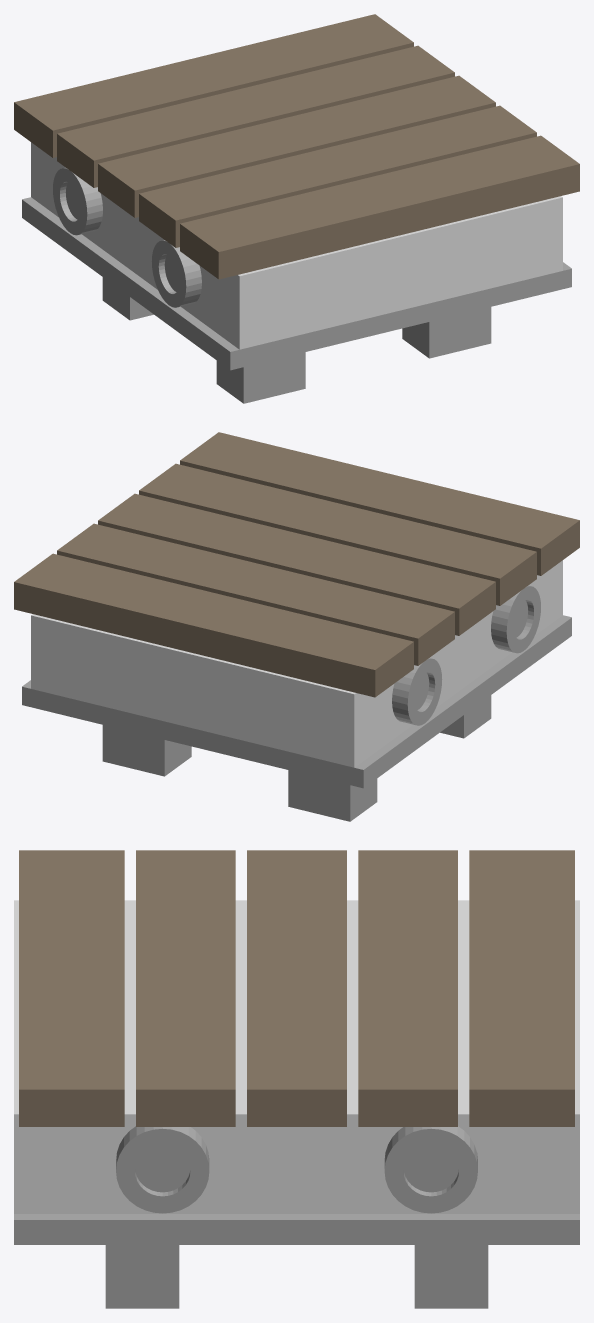
File: Conveyor.fbx
The picture shows the model from 3 angles, top to bottom: view 1: azimuth 30°, elevation 25°; view 2: azimuth 150°, elevation 25°; view 3: azimuth 270°, elevation 25°; orthographic projection. The views are drawn at different scales.
Parts seen in each view (by area): view 1: Conveyor; view 2: Conveyor; view 3: Conveyor.
Boxes of the visible parts, x1,y1,x2,y2 form: Conveyor: (14, 14, 579, 403); Conveyor: (14, 432, 579, 821); Conveyor: (14, 850, 579, 1308).
Size of the model in its own units: 100 by 100 by 50.
